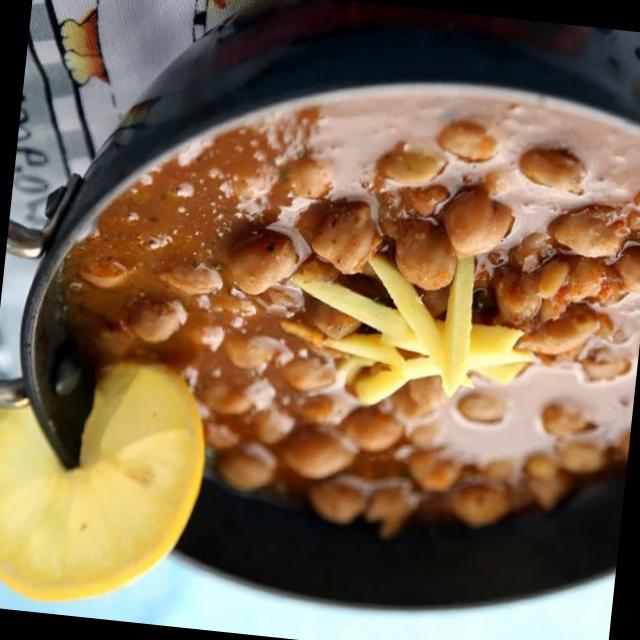Chole: (39, 47, 640, 560)
